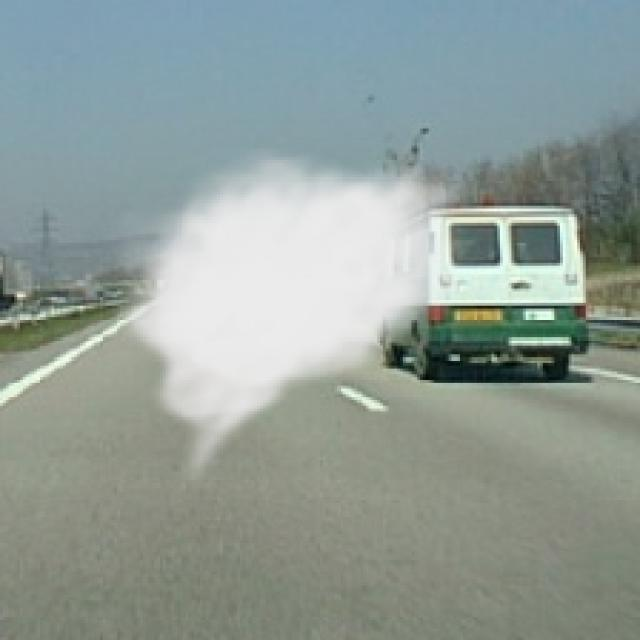smoke: (108, 146, 483, 491)
